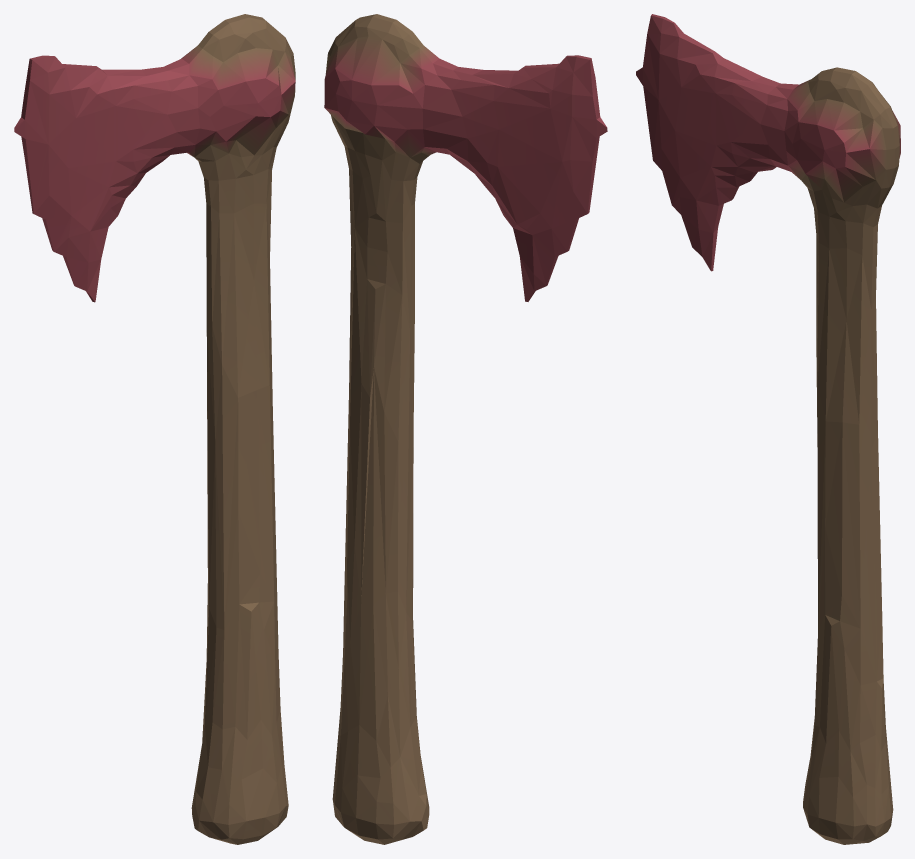
Rendered from axe_bloodstone.glb.
3 renders of one model, left to right at view 1: azimuth 30°, elevation 25°; view 2: azimuth 150°, elevation 25°; view 3: azimuth 330°, elevation 25°, orthographic. The views are drawn at different scales.
Parts seen in each view (by area): view 1: world; view 2: world; view 3: world.
Boxes of the visible parts, x1,y1,x2,y2 form: world: (14,14,295,844); world: (324,14,607,844); world: (636,14,900,844).
Bounding box in the file's own units: 0.3525 × 1 × 0.0961.
